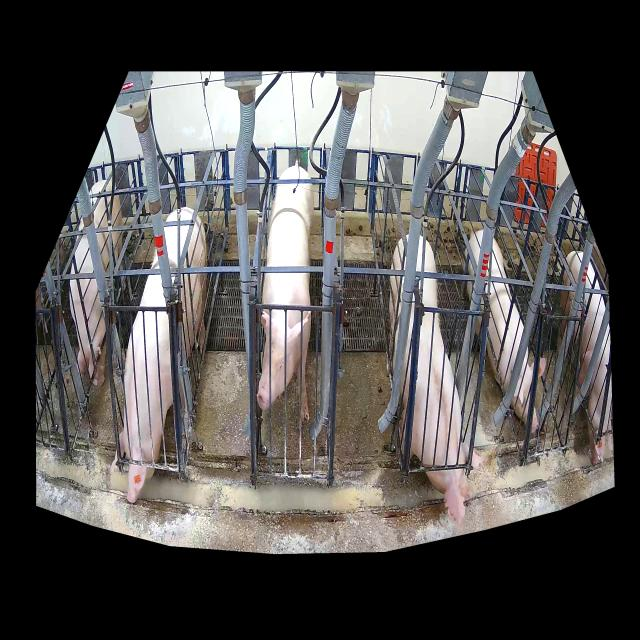pig: (389, 233, 488, 527), (119, 207, 208, 502), (463, 230, 539, 433), (257, 166, 314, 423), (559, 252, 612, 465), (69, 180, 122, 388)
